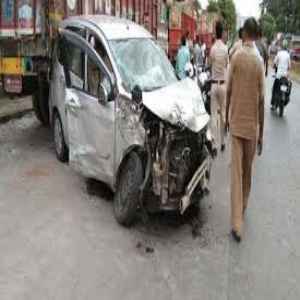bonnet: (154, 81, 215, 134)
bumper: (150, 140, 220, 216)
